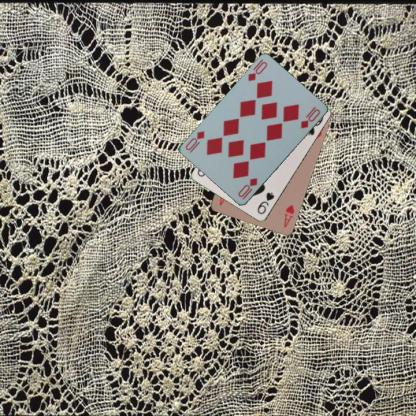10d: (235, 175, 259, 201), (246, 56, 268, 82)
9s: (254, 190, 275, 216)
Ah: (281, 202, 297, 229)
